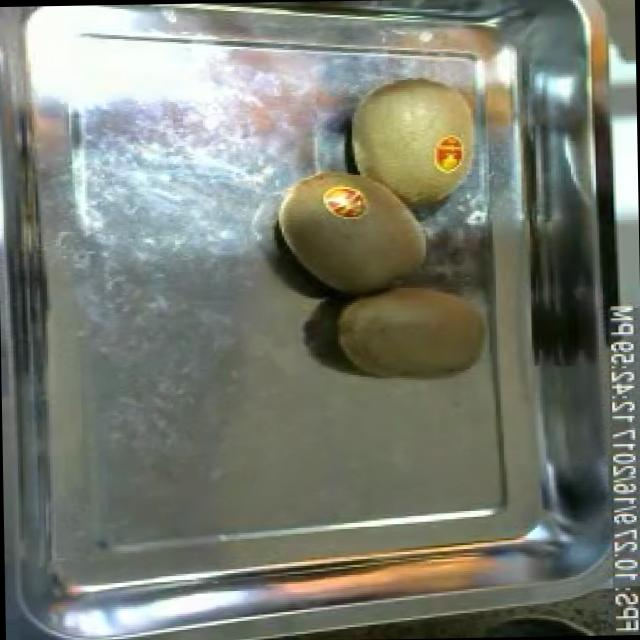Fruit: (268, 158, 436, 305), (340, 64, 485, 224), (324, 273, 497, 390), (27, 76, 80, 189)
